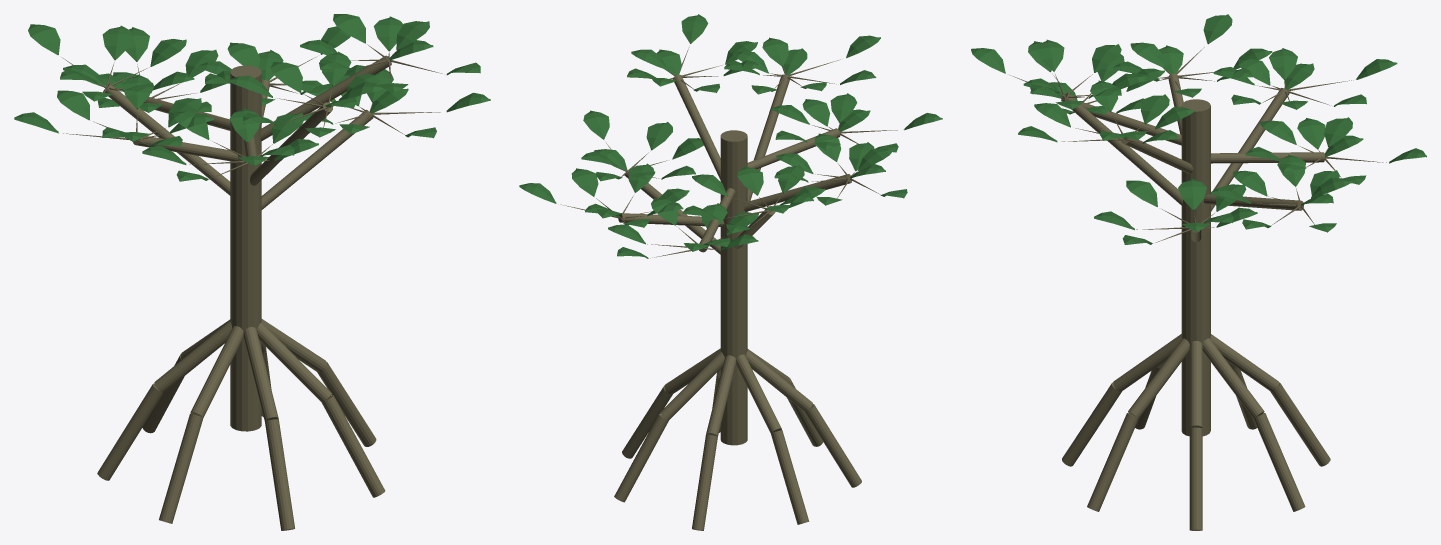
The picture shows the model from 3 angles, left to right: view 1: azimuth 30°, elevation 25°; view 2: azimuth 150°, elevation 25°; view 3: azimuth 270°, elevation 25°; orthographic projection. The views are drawn at different scales.
Visible parts, largest first — view 1: MANGROVE_Trunk, PROP_RootLower.005, PROP_RootLower.004, PROP_RootLower.006, PROP_RootLower.003, MANGROVE_Branch.001, MANGROVE_Branch, PROP_RootUpper.006, PROP_RootUpper.004, PROP_RootUpper.005, PROP_RootUpper.003, PROP_RootLower (+17 smaller); view 2: MANGROVE_Trunk, PROP_RootLower.002, PROP_RootLower.003, PROP_RootLower.001, PROP_RootLower.004, PROP_RootUpper.003, PROP_RootUpper.002, MANGROVE_Branch.005, PROP_RootUpper.004, PROP_RootUpper.001, PROP_RootLower, MANGROVE_Branch.002 (+14 smaller); view 3: MANGROVE_Trunk, PROP_RootLower, MANGROVE_Branch.002, PROP_RootLower.006, PROP_RootLower.001, PROP_RootLower.005, PROP_RootLower.002, PROP_RootUpper.001, PROP_RootUpper.006, PROP_RootUpper, MANGROVE_Branch.001, PROP_RootUpper.002 (+13 smaller).
Part boxes in pixels (<box>): MANGROVE_Trunk: <box>230,65,261,431</box>; PROP_RootLower.005: <box>265,419,294,530</box>; PROP_RootLower.004: <box>159,413,203,523</box>; PROP_RootLower.006: <box>322,395,385,497</box>; PROP_RootLower.003: <box>97,383,163,480</box>; MANGROVE_Branch.001: <box>103,83,230,195</box>; MANGROVE_Branch: <box>261,109,373,209</box>; PROP_RootUpper.006: <box>256,322,331,402</box>; PROP_RootUpper.004: <box>190,326,243,417</box>; PROP_RootUpper.005: <box>243,327,278,421</box>; PROP_RootUpper.003: <box>154,321,232,392</box>; PROP_RootLower: <box>317,362,376,446</box>; MANGROVE_Trunk: <box>720,130,747,445</box>; PROP_RootLower.002: <box>692,434,717,530</box>; PROP_RootLower.003: <box>771,430,809,524</box>; PROP_RootLower.001: <box>614,414,668,502</box>; PROP_RootLower.004: <box>805,404,861,487</box>; PROP_RootUpper.003: <box>736,354,781,433</box>; PROP_RootUpper.002: <box>706,355,736,436</box>; MANGROVE_Branch.005: <box>673,74,720,179</box>; PROP_RootUpper.004: <box>746,350,812,411</box>; PROP_RootUpper.001: <box>660,351,724,420</box>; PROP_RootLower: <box>622,385,672,458</box>; MANGROVE_Branch.002: <box>747,74,790,201</box>; MANGROVE_Trunk: <box>1181,99,1210,436</box>; PROP_RootLower: <box>1189,427,1202,530</box>; MANGROVE_Branch.002: <box>1061,93,1182,205</box>; PROP_RootLower.006: <box>1087,413,1138,511</box>; PROP_RootLower.001: <box>1254,413,1305,511</box>; PROP_RootLower.005: <box>1062,382,1121,466</box>; PROP_RootLower.002: <box>1270,382,1330,466</box>; PROP_RootUpper.001: <box>1202,338,1264,418</box>; PROP_RootUpper.006: <box>1128,338,1189,418</box>; PROP_RootUpper: <box>1189,341,1202,427</box>; MANGROVE_Branch.001: <box>1211,88,1289,211</box>; PROP_RootUpper.002: <box>1210,334,1278,391</box>.
Size of the model in its own units: 3.06 by 3.07 by 3.11.
